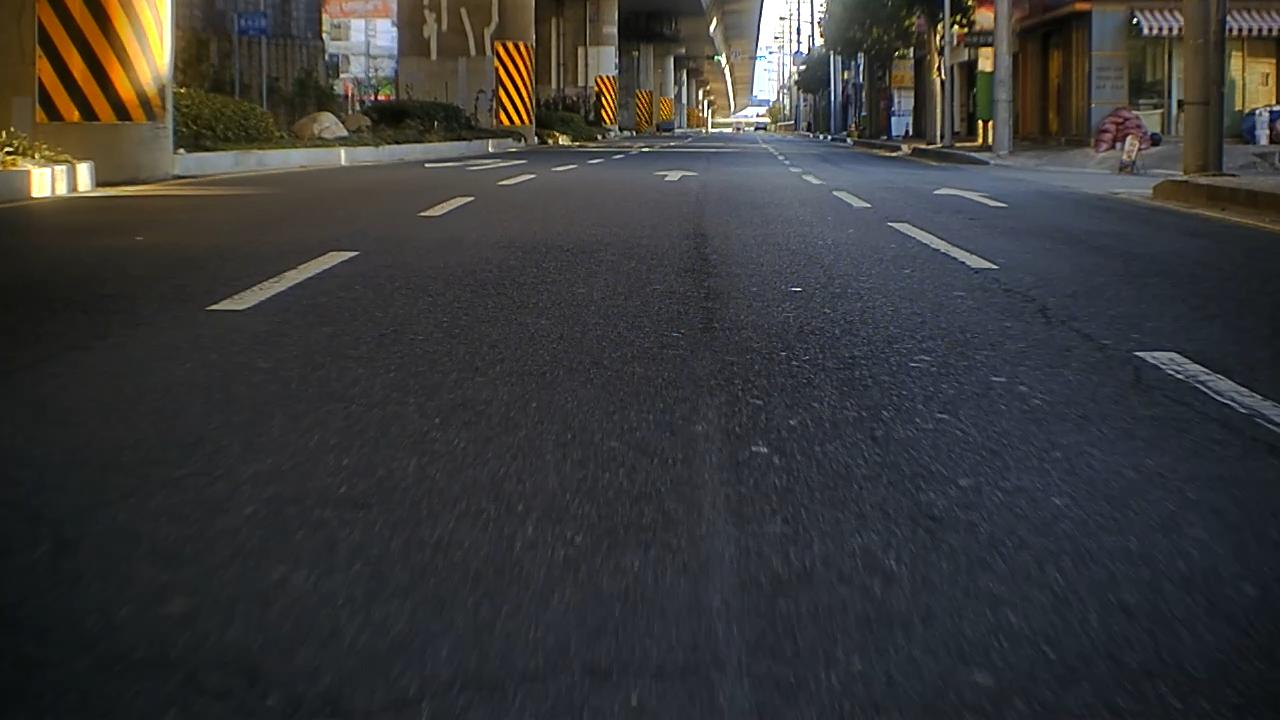vcrack: (983, 273, 1211, 422), (681, 218, 718, 323)
